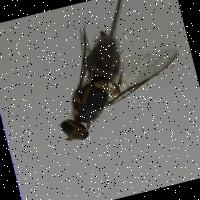Oriental-fruit-fly: (33, 3, 192, 154)
